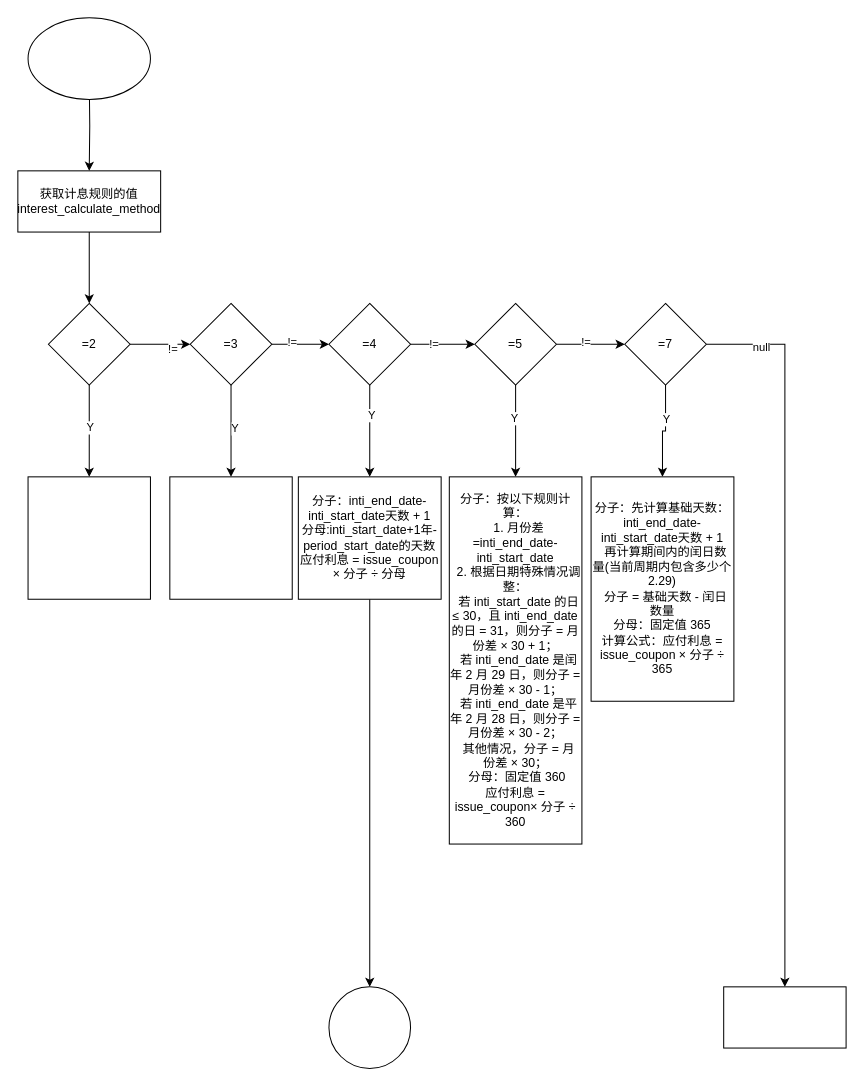
Some shapes in this 864 by 1086 pixel diagram are drawn without their labels. Each missing label, with the centre of its shape:
"分子：inti_end_date-inti_start_date天数 + 1 分母：固定值 360 应付利息 = issue_coupon× 分子 ÷ 360" belongs at [230,537].
"分子：inti_end_date-inti_start_date天数 + 1 分母：固定值 365 应付利息 = issue_coupon× 分子 ÷ 365" belongs at [88,537].
"开始" belongs at [88,58].
